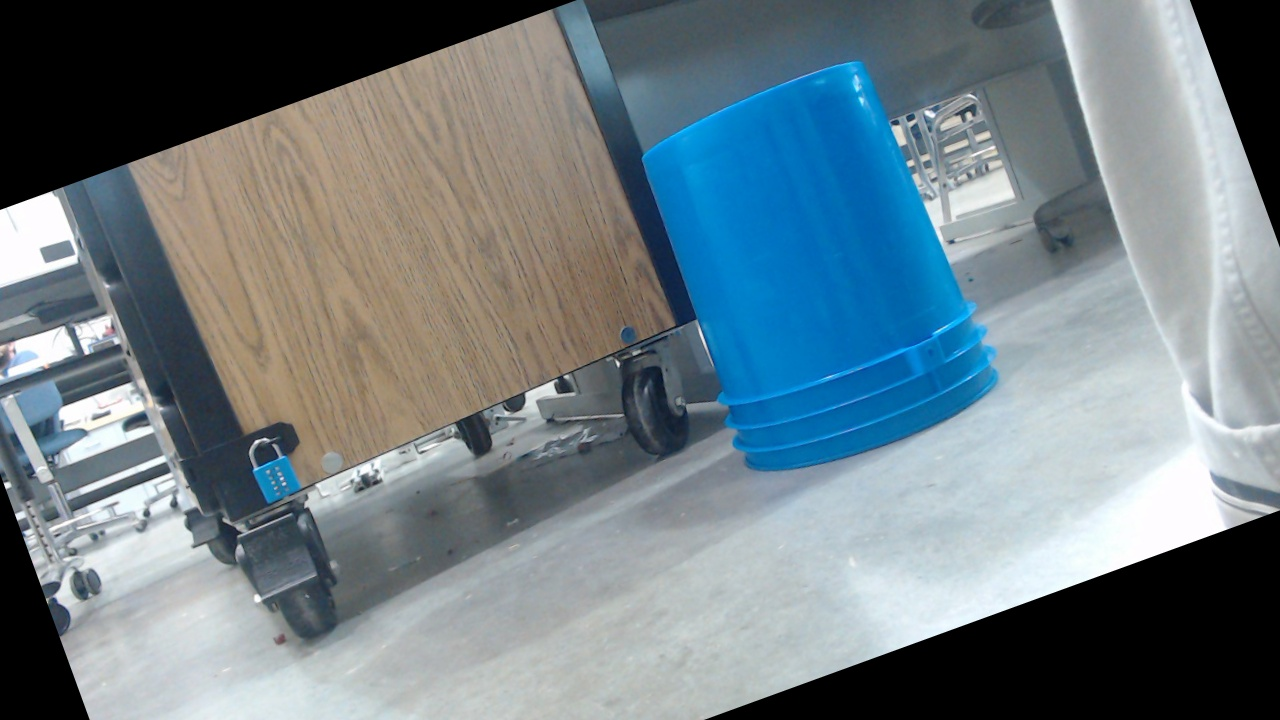blue_bucket: (634, 179, 1040, 643)
